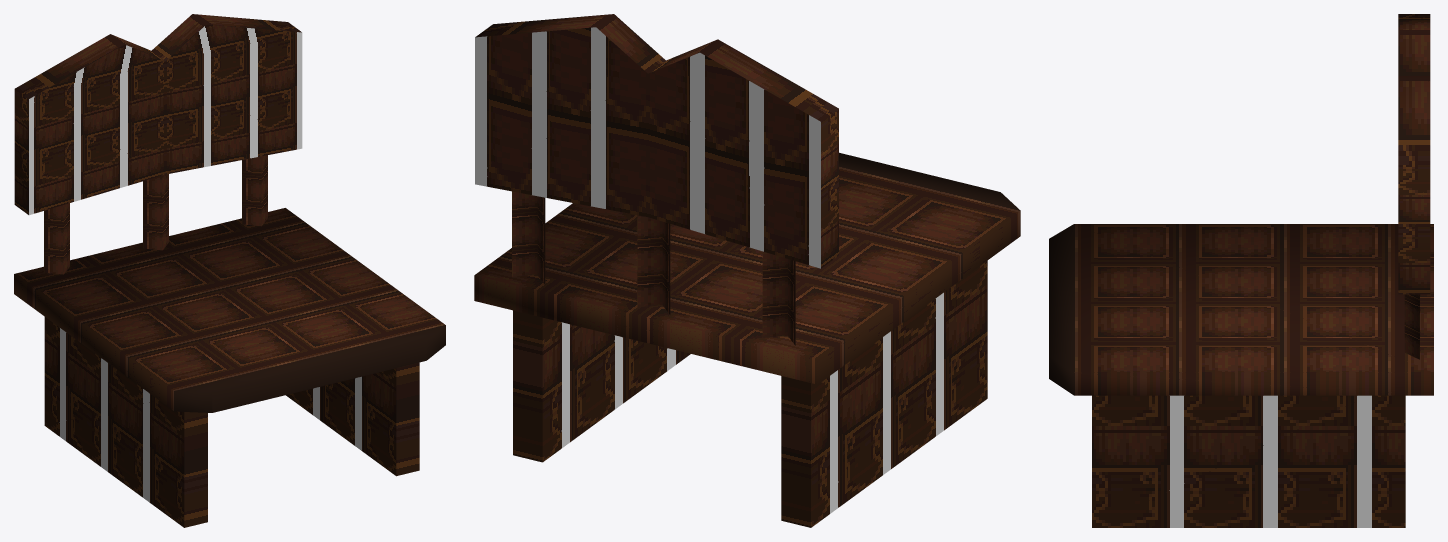
The model's file is 3461IMSL01_14.gltf.
3 views of the same model, side by side, from view 1: azimuth 30°, elevation 25°; view 2: azimuth 150°, elevation 25°; view 3: azimuth 270°, elevation 25° (orthographic). The views are drawn at different scales.
Visible parts, largest first — view 1: 3461IMSL01_14; view 2: 3461IMSL01_14; view 3: 3461IMSL01_14.
Part boxes in pixels (x1,y1,x2,y2): 3461IMSL01_14: [14, 14, 445, 527]; 3461IMSL01_14: [474, 14, 1020, 527]; 3461IMSL01_14: [1049, 14, 1433, 527].
Size of the model in its own units: 0.8564 by 1.09 by 0.9297.
Materials: 3 (3 with a texture image).
